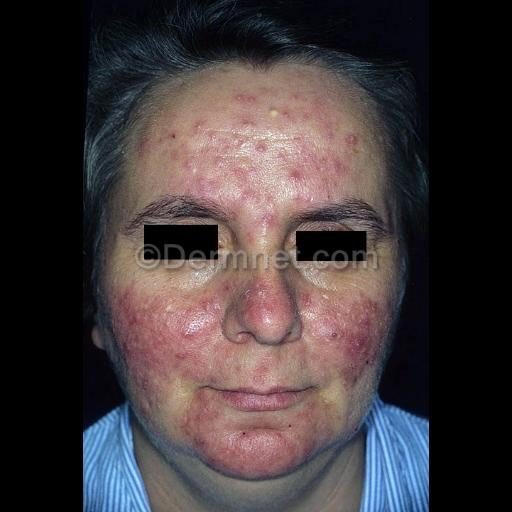Skin_Lesion: (195, 298, 233, 336), (244, 282, 274, 312), (349, 327, 371, 367), (233, 90, 259, 120), (263, 102, 297, 124), (184, 168, 220, 188), (262, 204, 282, 238), (297, 291, 321, 315), (156, 305, 176, 331), (122, 334, 140, 362), (174, 348, 192, 374), (120, 286, 134, 318), (342, 128, 360, 152), (287, 164, 305, 188), (253, 139, 273, 159), (234, 117, 258, 133), (382, 192, 394, 224), (322, 326, 344, 342), (135, 138, 149, 162), (356, 296, 374, 314), (192, 117, 206, 137), (235, 425, 247, 445), (169, 128, 179, 144), (196, 434, 206, 450), (183, 418, 191, 436)
